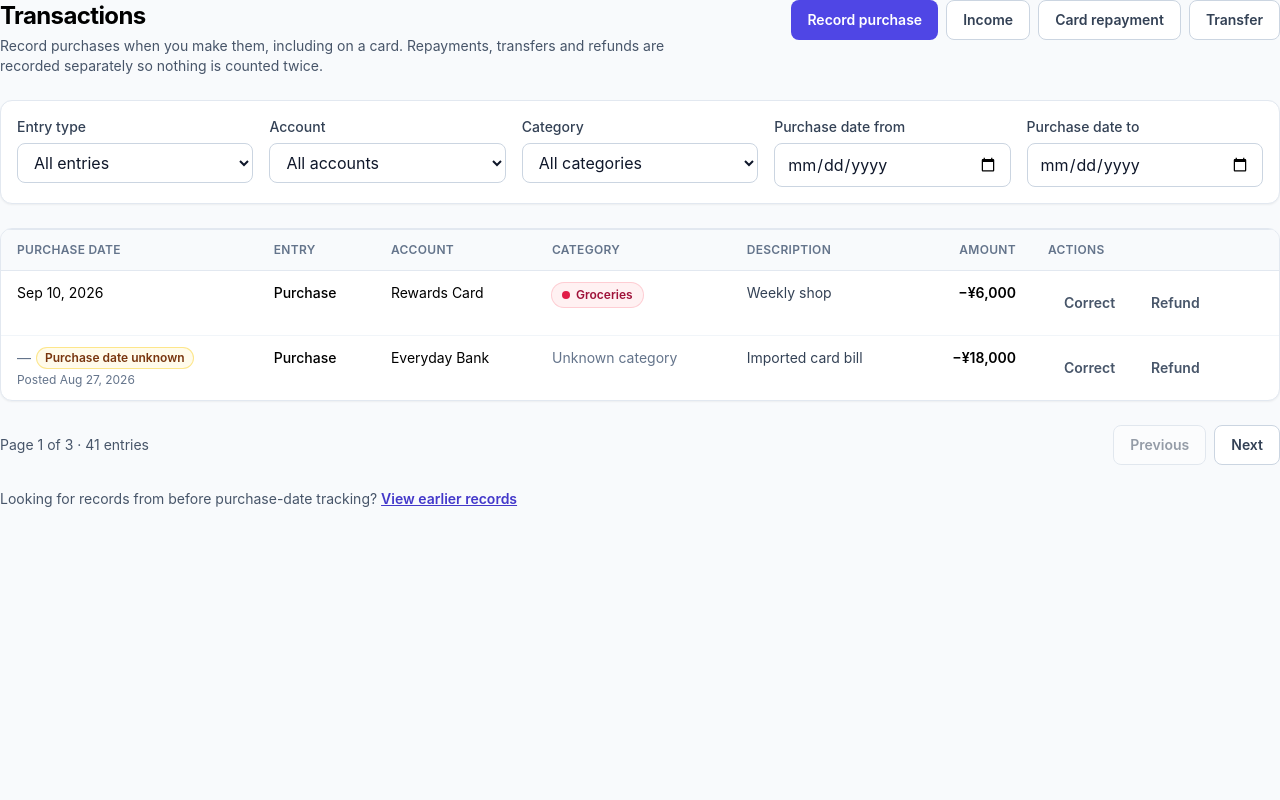
Test: records a card purchase immediately as spending and debt without touching the bank
Click the button "Record purchase" at (865, 20), box [791,0,938,40]
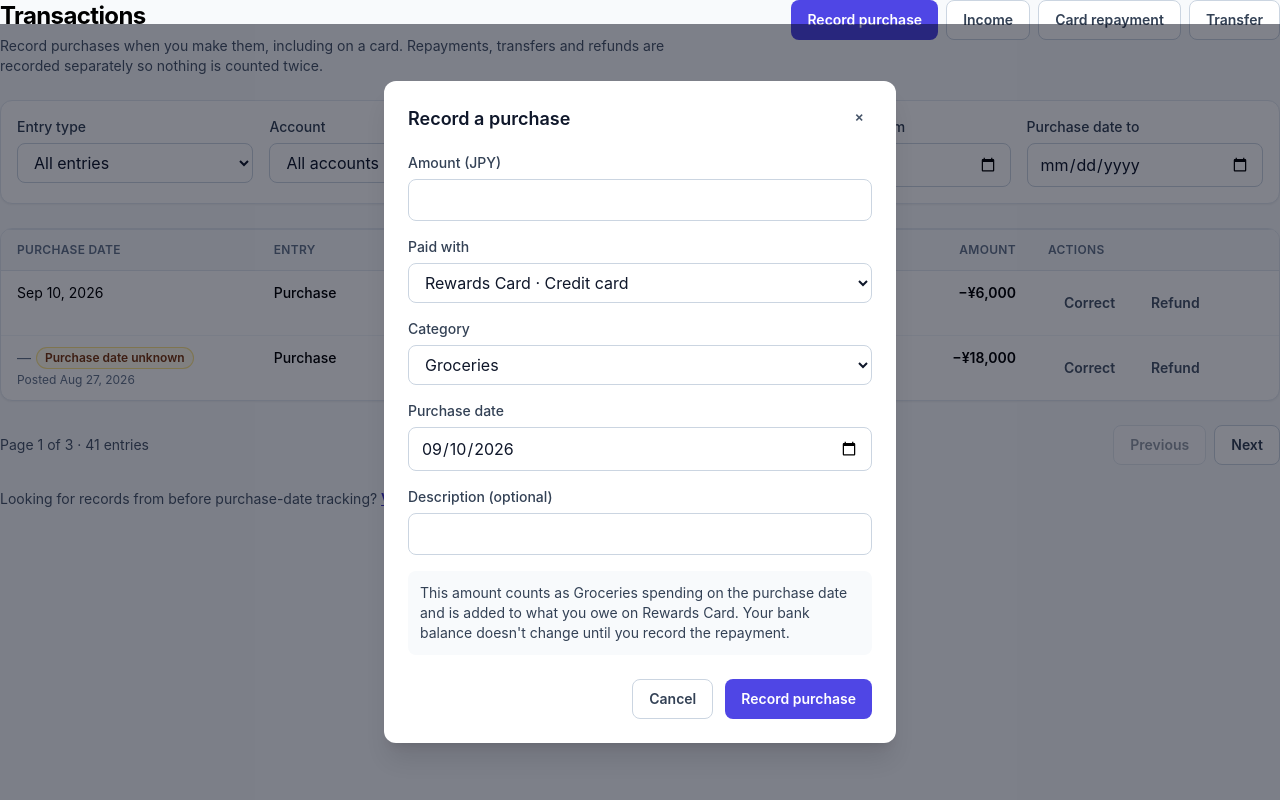
Expected: the dropdown labelled "Paid with" shows "Rewards Card · Credit card", [408,263,872,303]
Expected: the date field labelled "Purchase date" holds "2026-09-10", [408,427,872,471]
Expected: the dropdown labelled "Category" shows "Groceries", [408,345,872,385]
Type "6000" into the field labelled "Amount (JPY)" at (640, 200), box [408,179,872,221]
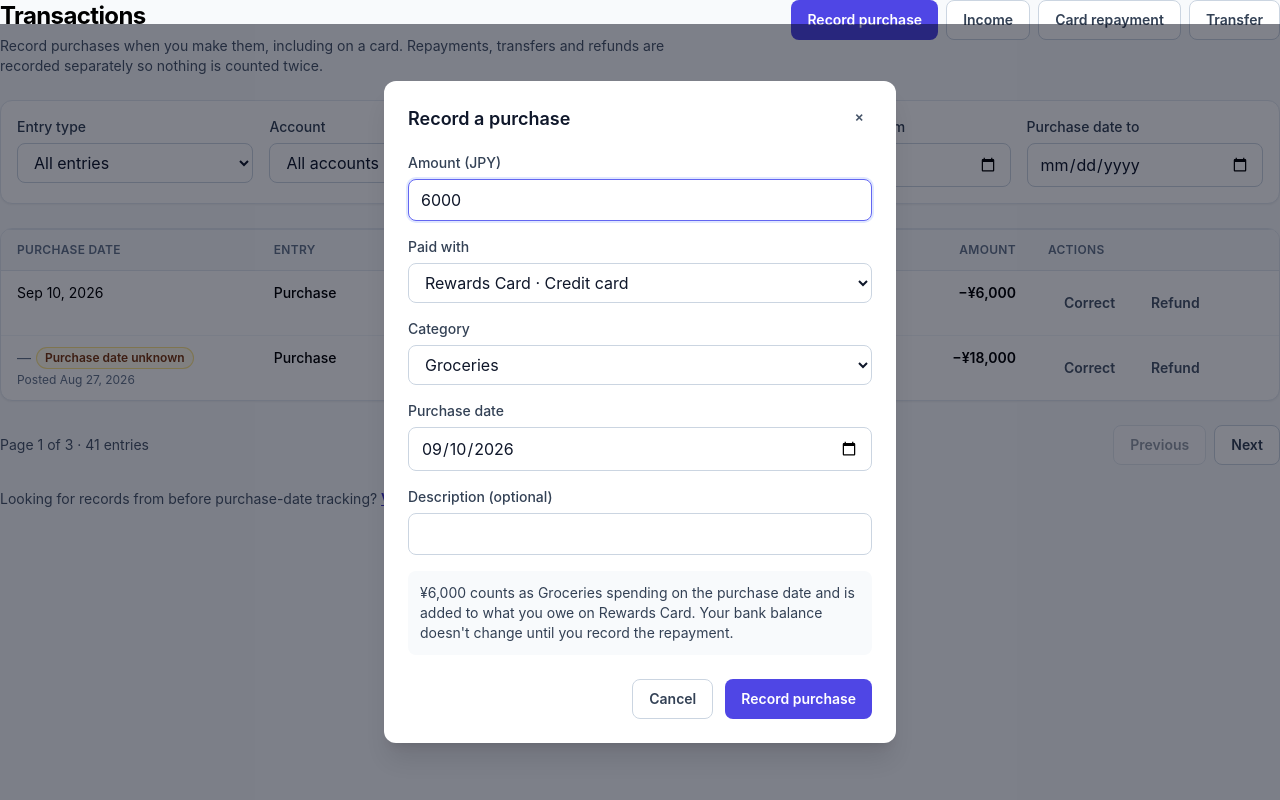
Expected: the text "¥6,000 counts as Groceries spending on the purchase date and is added to what you owe on Rewards Card. Your bank balanc" is shown, [420,584,855,641]
Click the button "Record purchase" below "Description (optional)" at (799, 699), box [725,679,872,719]
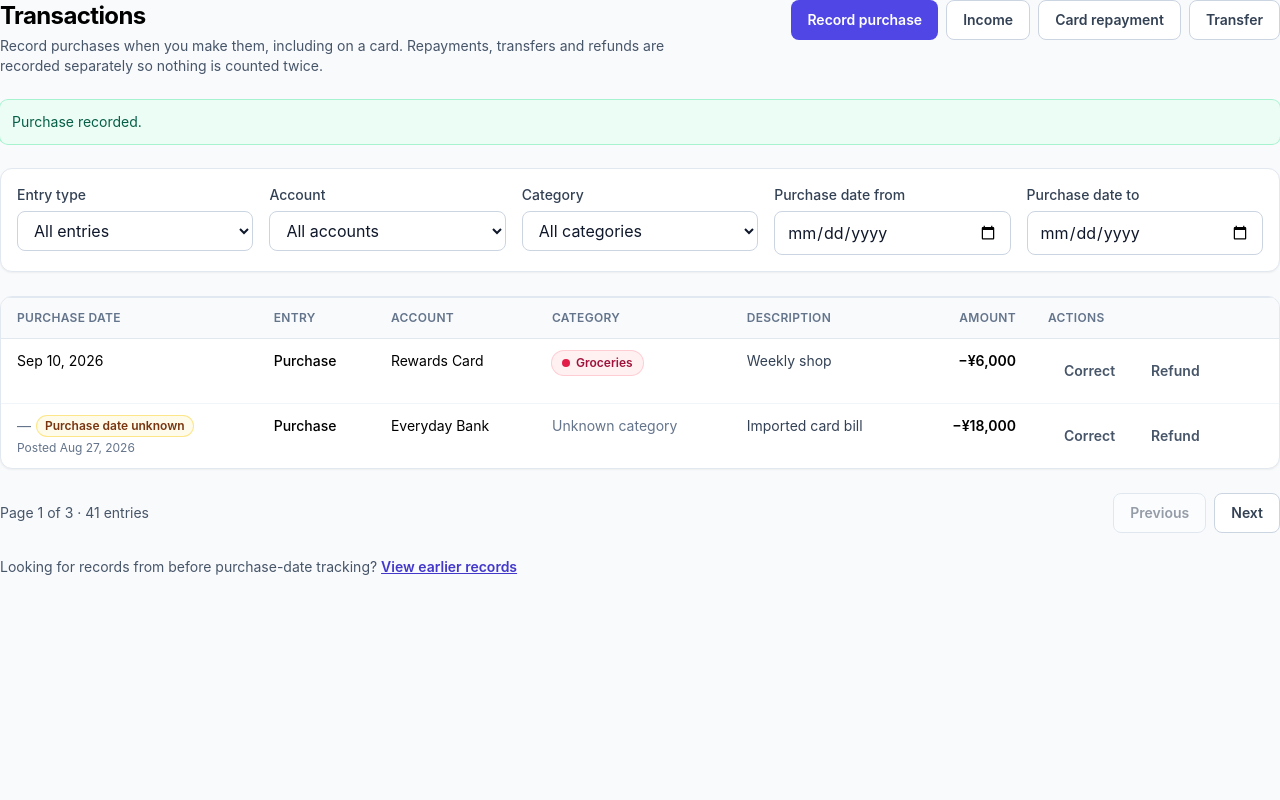
Expected: the text "Purchase recorded." is shown, [0,100,1279,144]
